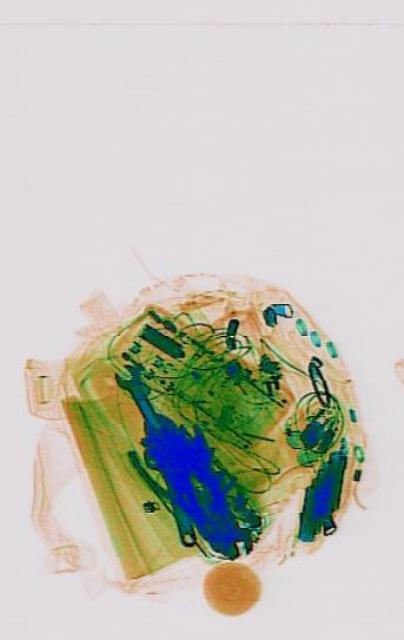Wrench: (109, 352, 166, 442)
